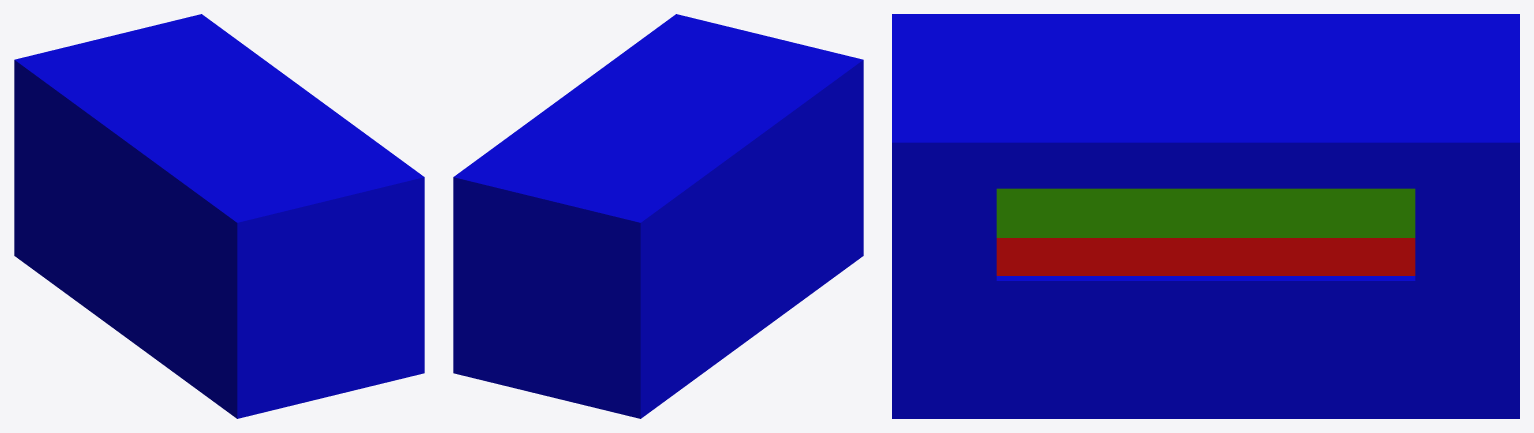
File: cabin.fbx
3 views of the same model, side by side, from view 1: azimuth 30°, elevation 25°; view 2: azimuth 150°, elevation 25°; view 3: azimuth 270°, elevation 25° (orthographic). The views are drawn at different scales.
Parts seen in each view (by area): view 1: polySurface2; view 2: polySurface2; view 3: polySurface2.
Part boxes in pixels (x1,y1,x2,y2): polySurface2: (14,14,424,418); polySurface2: (453,14,863,418); polySurface2: (892,14,1519,418).
Size of the model in its own units: 46.74 by 46.74 by 96.31.
